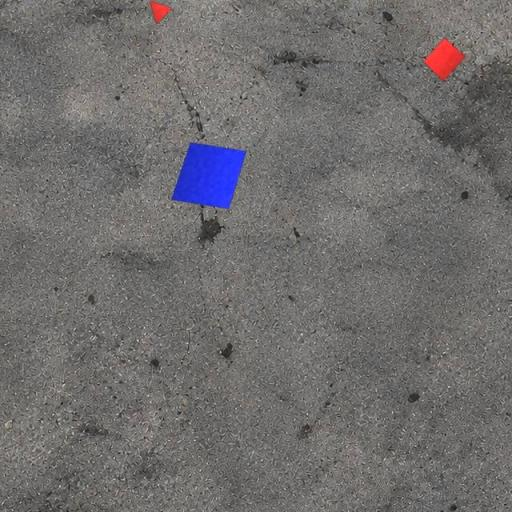BLUE_SQUARE: (170, 142, 248, 210)
RED_SQUARE: (424, 37, 466, 82)
